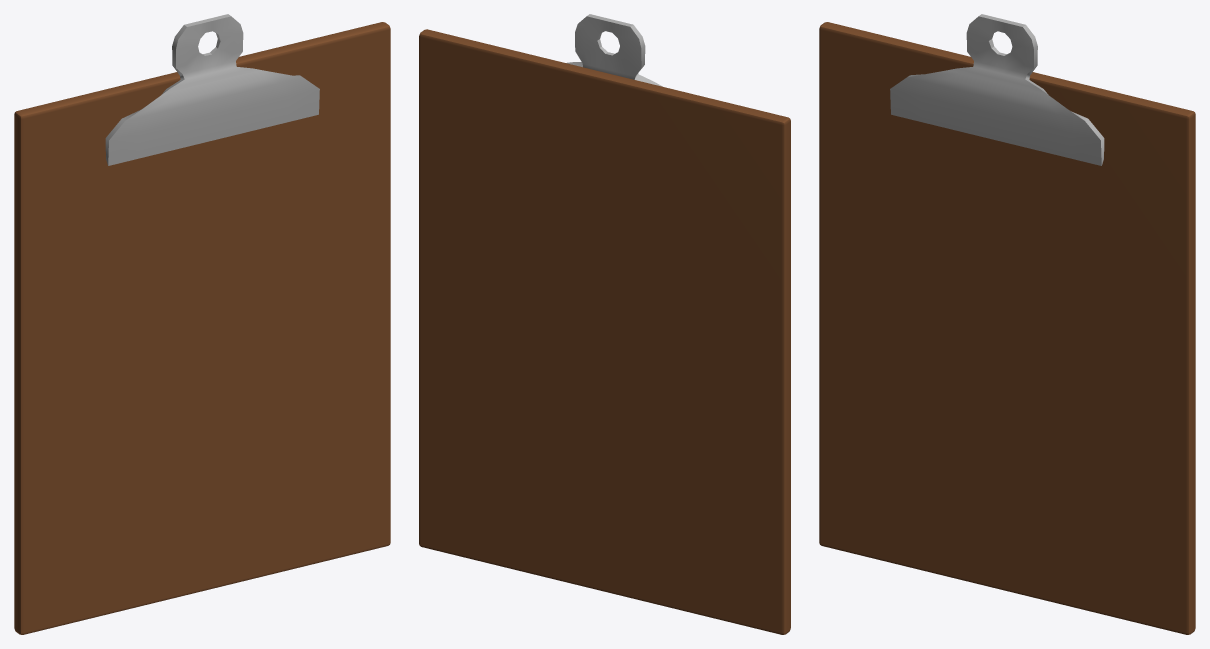
The model's file is clipboard.fbx.
The picture shows the model from 3 angles, left to right: view 1: azimuth 30°, elevation 25°; view 2: azimuth 150°, elevation 25°; view 3: azimuth 330°, elevation 25°; orthographic projection.
Visible parts, largest first — view 1: clipboardBack, clipboardClip; view 2: clipboardBack, clipboardClip; view 3: clipboardBack, clipboardClip.
Part boxes in pixels (x1,y1,x2,y2): clipboardBack: (14,22,390,634); clipboardClip: (105,14,319,165); clipboardBack: (419,29,790,634); clipboardClip: (566,14,662,86); clipboardBack: (819,22,1195,634); clipboardClip: (890,14,1104,165).
Size of the model in its own units: 35.21 by 51.8 by 2.61.
